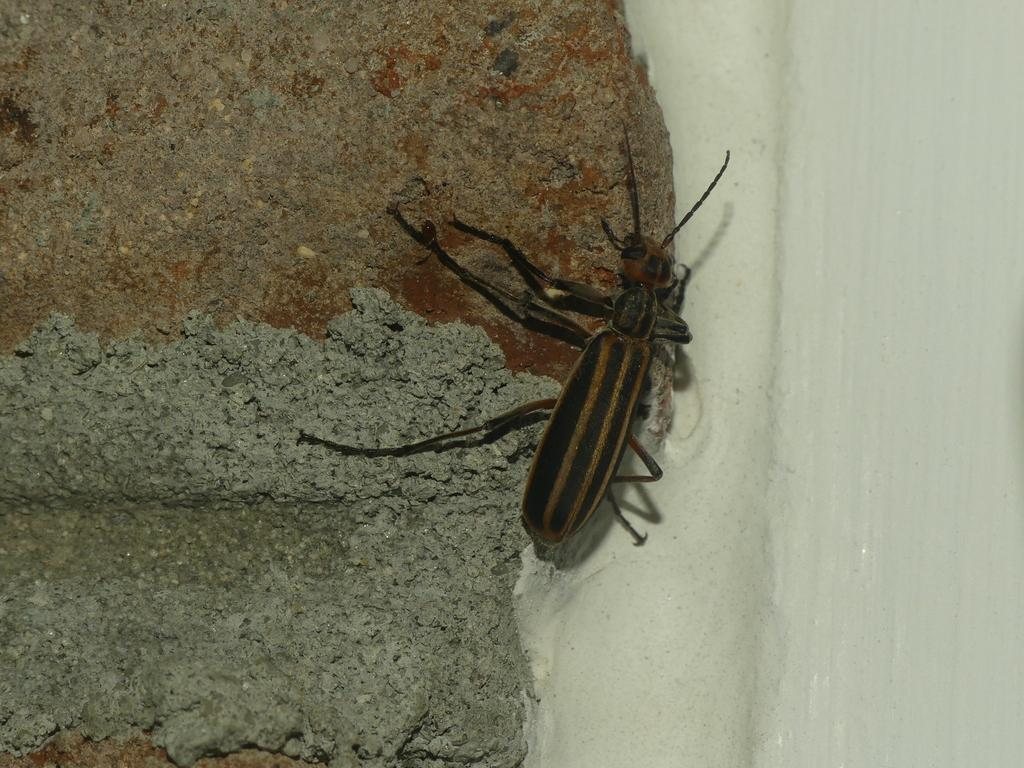blister_beetle: (250, 84, 801, 611)
